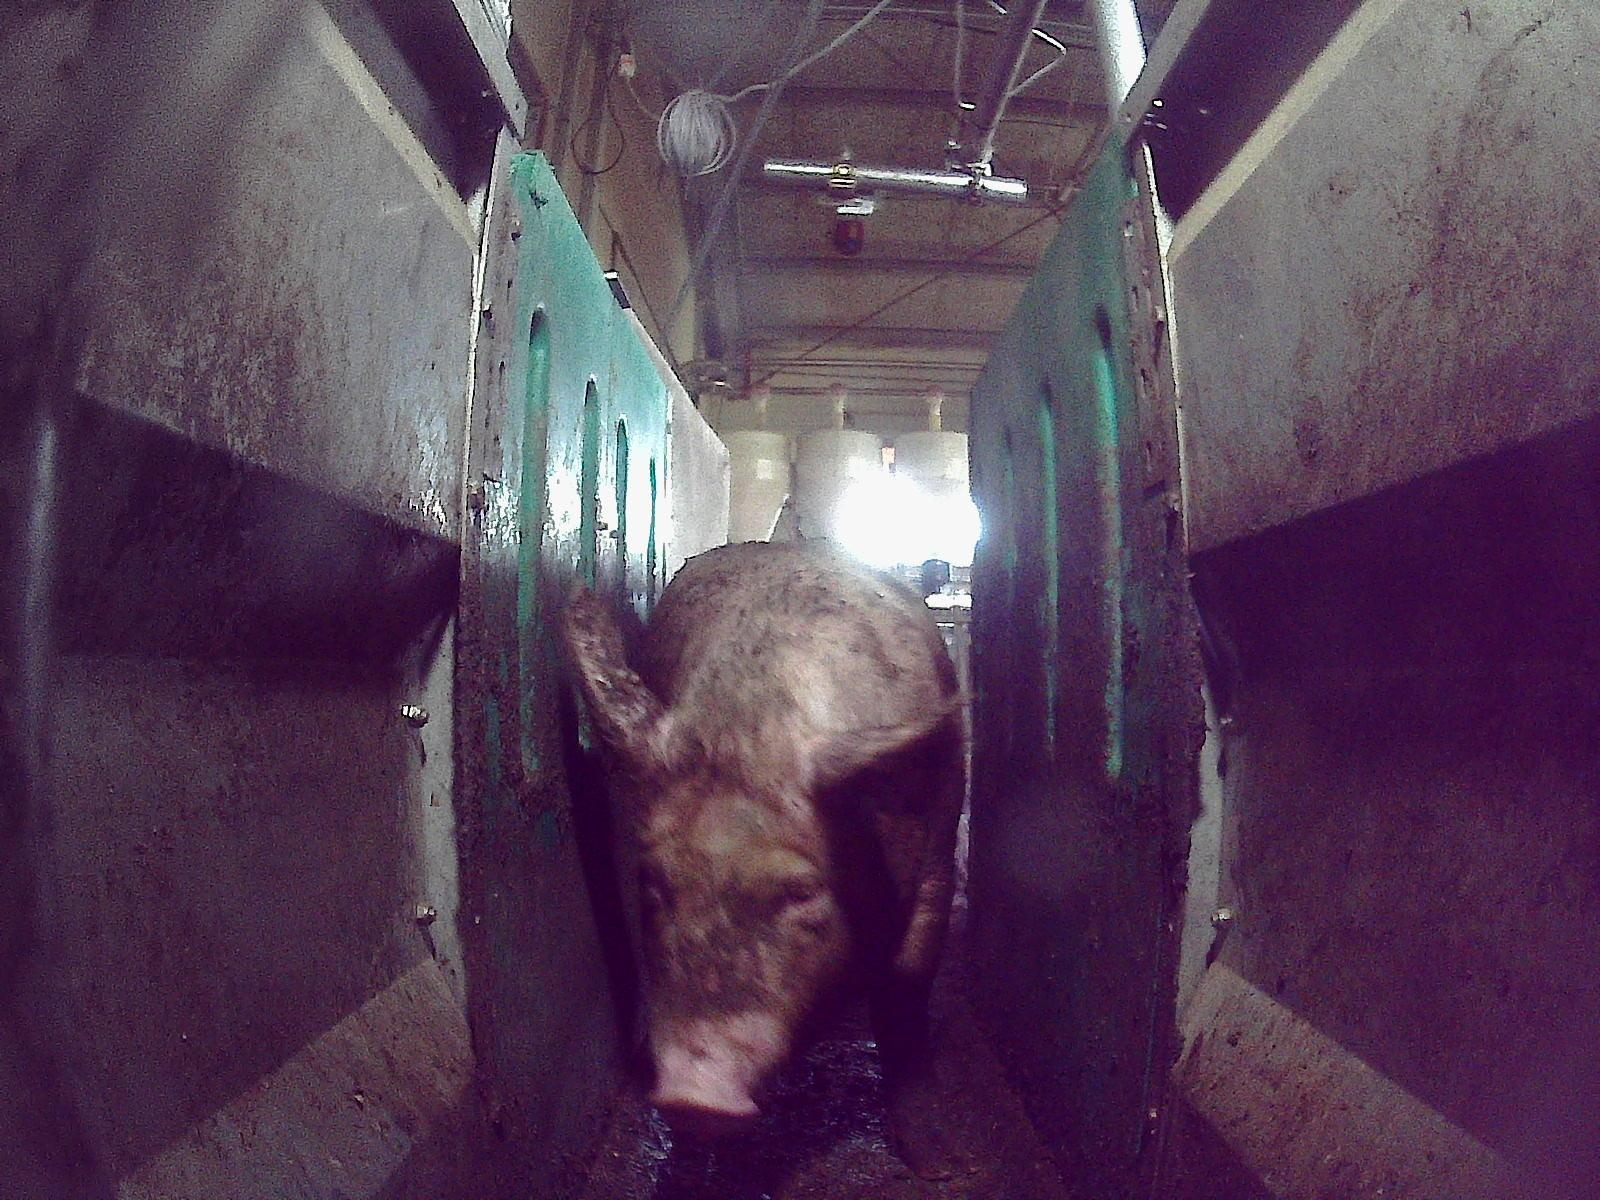Face: (620, 730, 860, 1138)
